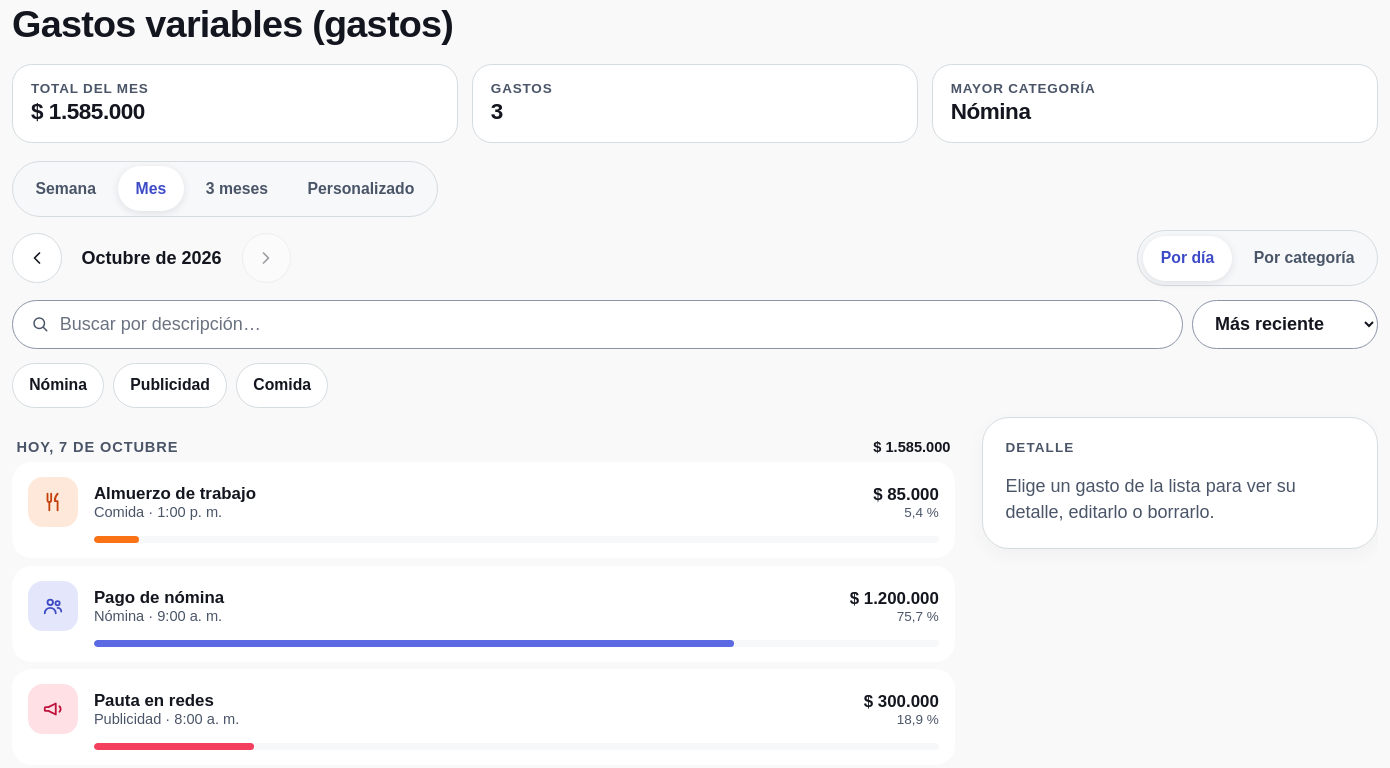
Test: PaginaLista › busca por descripción sin importar mayúsculas ni tildes y avisa cuántos hay
Type "NOMINA" into the search field named "Buscar gastos". click: (612, 324)
box: [60,301,1164,348]
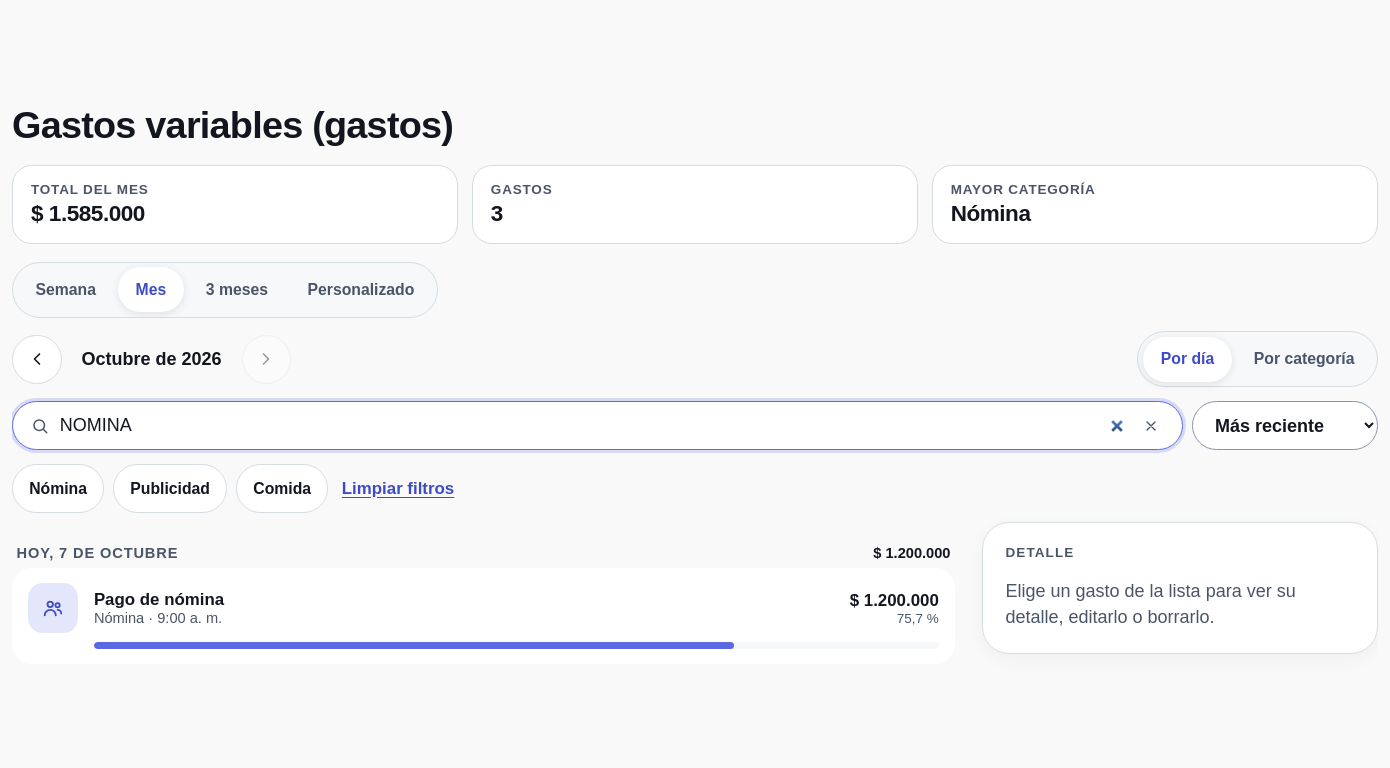
expect the text "Pago de nómina" is shown: met, box [94,590,224,609]
expect the button "Almuerzo de trabajo" is gone: met
